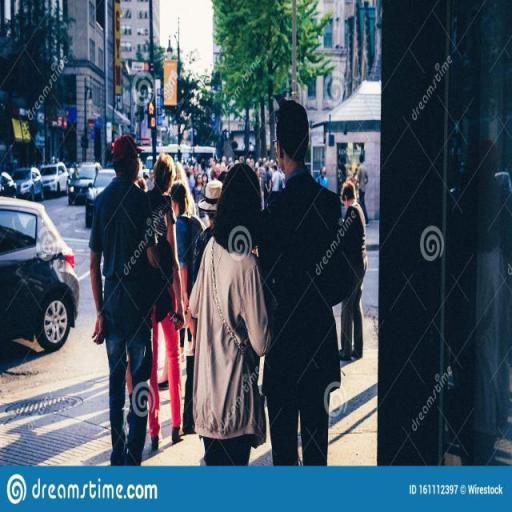person: (264, 105, 348, 471), (191, 167, 272, 468), (86, 136, 158, 468), (149, 156, 188, 450), (340, 182, 369, 362), (358, 153, 371, 231)
